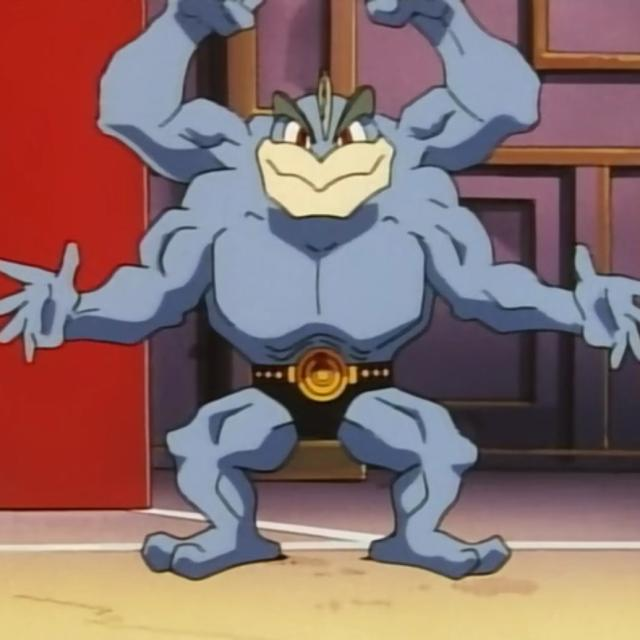Machamp: (95, 60, 547, 578)
